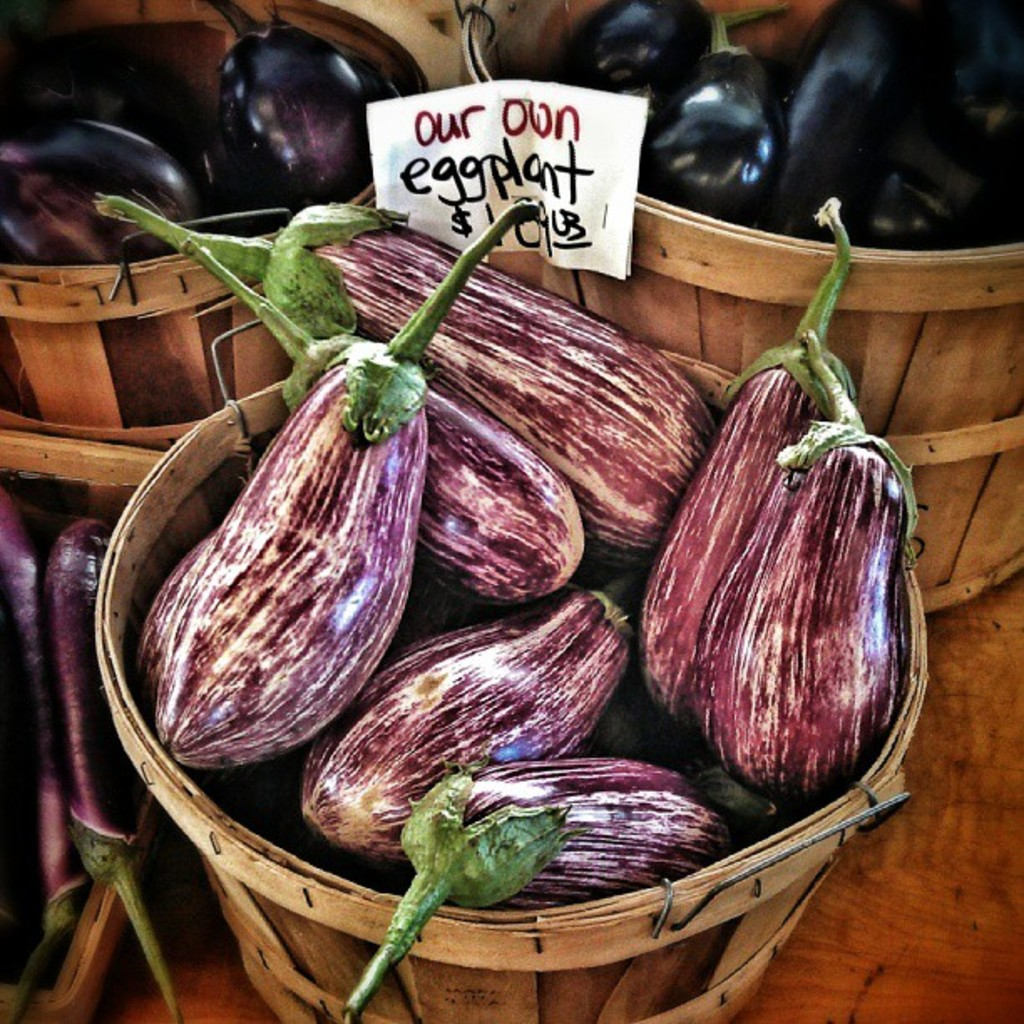face: (688, 0, 838, 71)
